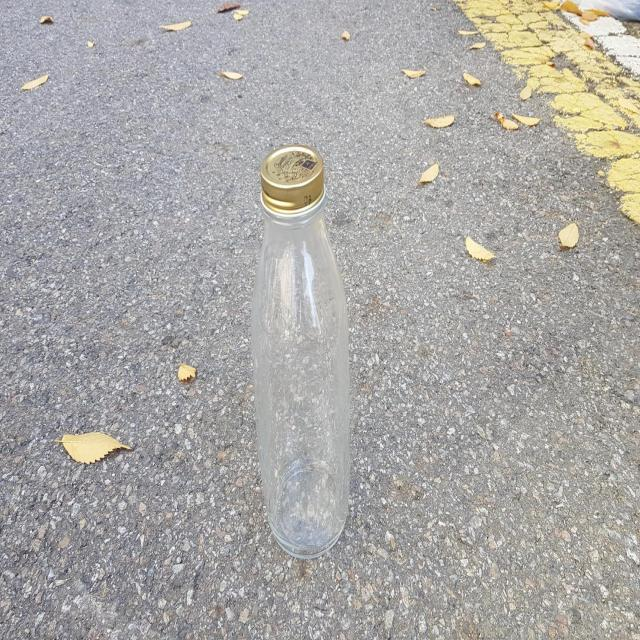glass: (251, 143, 350, 558)
